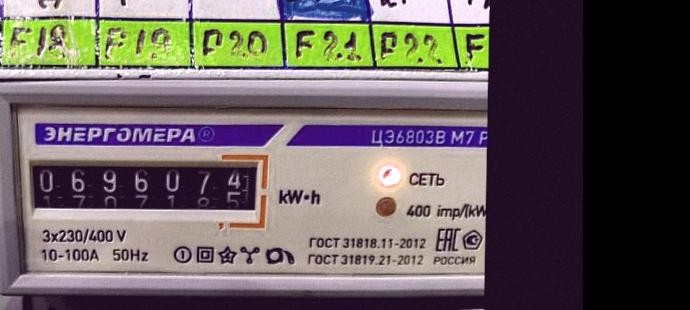0: (36, 168, 56, 193), (163, 167, 181, 194)
4: (225, 168, 242, 190)
5: (225, 191, 241, 211)
6: (131, 167, 150, 194), (68, 168, 87, 193)
7: (195, 169, 212, 195)
9: (100, 167, 117, 194)
screen: (18, 148, 272, 232)
